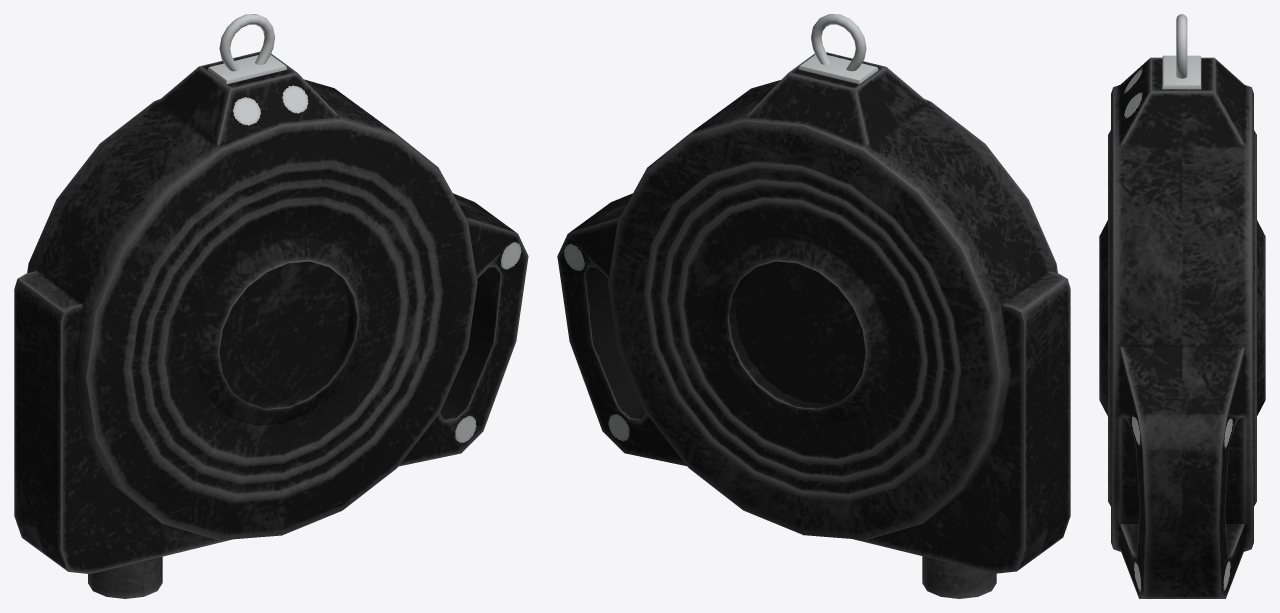
Rendered from cuerda_base.fbx.
The picture shows the model from 3 angles, left to right: view 1: azimuth 30°, elevation 25°; view 2: azimuth 150°, elevation 25°; view 3: azimuth 270°, elevation 25°; orthographic projection. The views are drawn at different scales.
Parts seen in each view (by area): view 1: cuerda_base; view 2: cuerda_base; view 3: cuerda_base.
Boxes of the visible parts, left/top/right/bottom form: cuerda_base: left=14, top=14, right=528, bottom=598; cuerda_base: left=557, top=14, right=1070, bottom=598; cuerda_base: left=1099, top=14, right=1265, bottom=598.
Size of the model in its own units: 138 by 151 by 41.08.
1 material, 1 textured.
